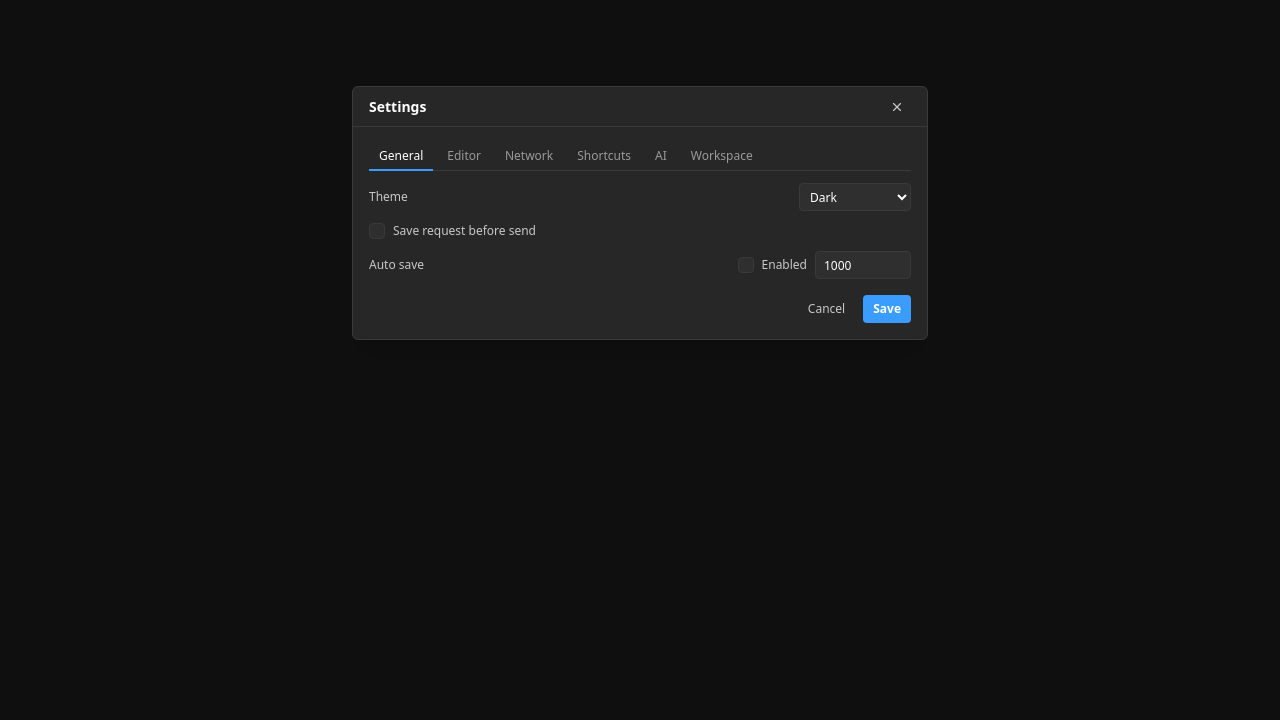
Test case: SettingsModal › tests the AI connection with the draft settings
Click the tab "AI": {"x": 661, "y": 157} [645,143,677,171]
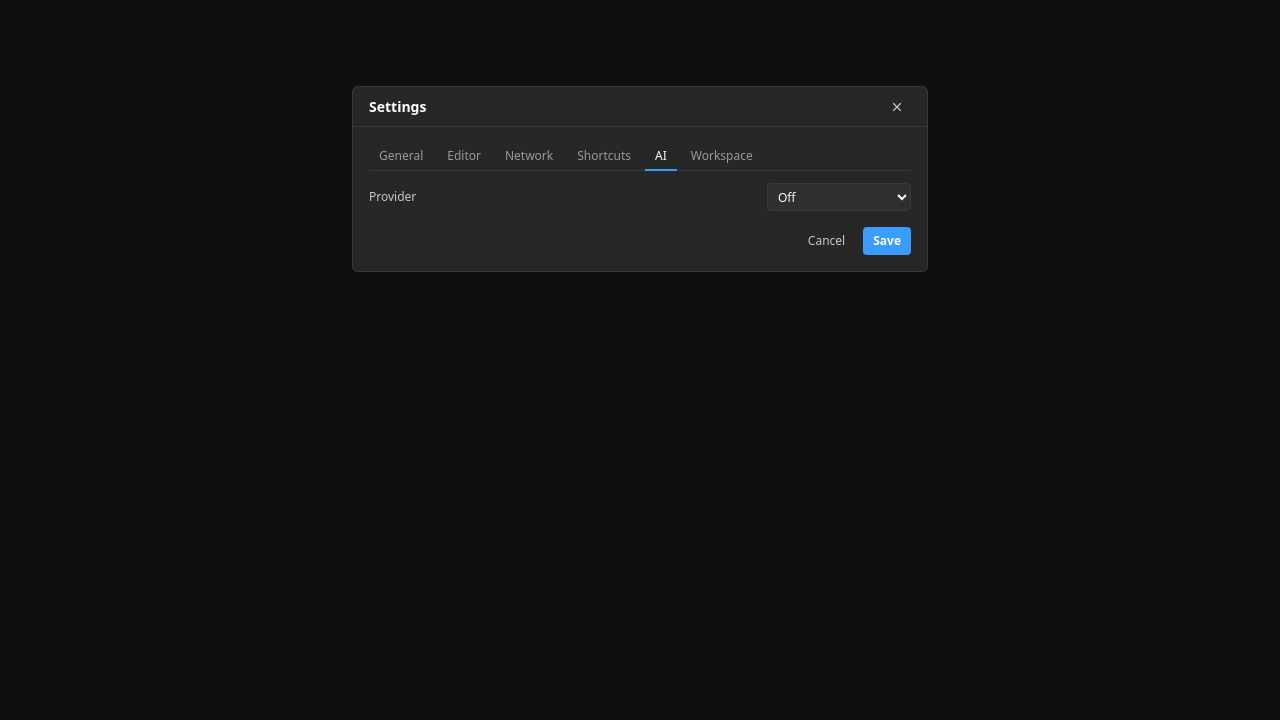
Select "Custom" in the dropdown named "AI provider": {"x": 839, "y": 197} [767,183,911,211]
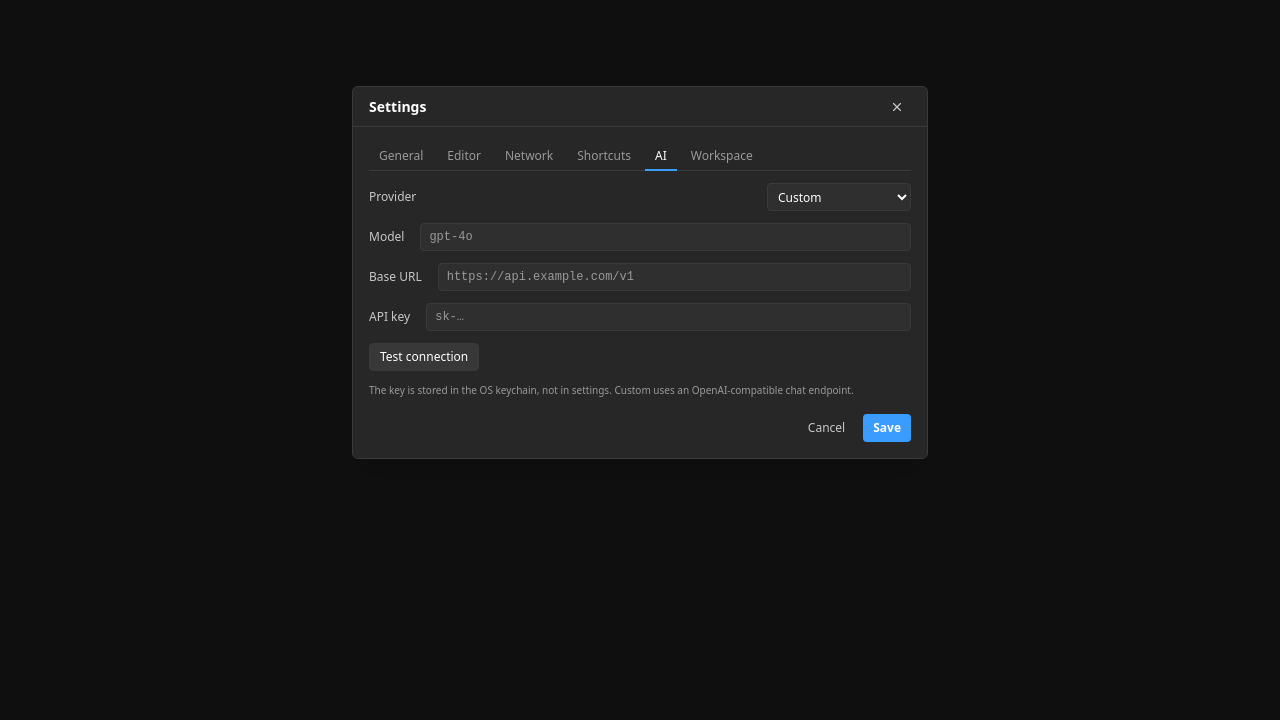
In the field named "AI model": {"x": 666, "y": 237} [420,223,911,251], type "llama3"
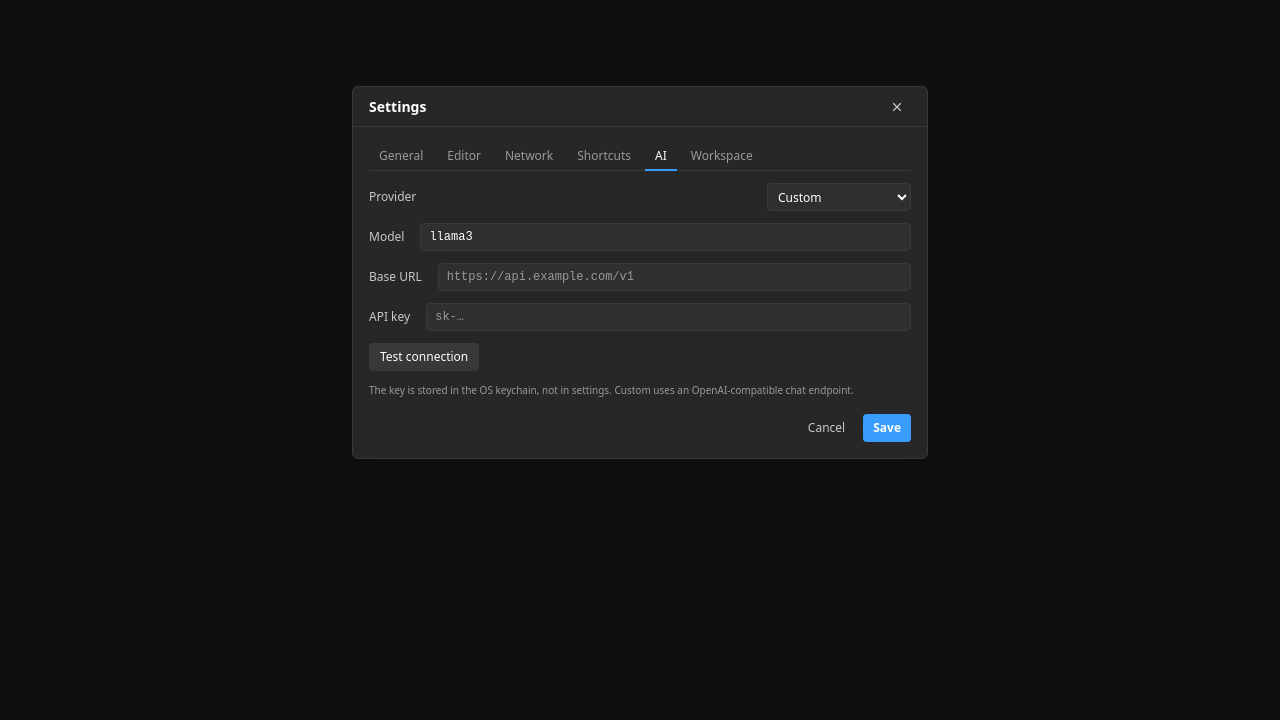
In the field named "AI base URL": {"x": 674, "y": 277} [438,263,911,291], type "http://127.0.0.1:11434/v1"
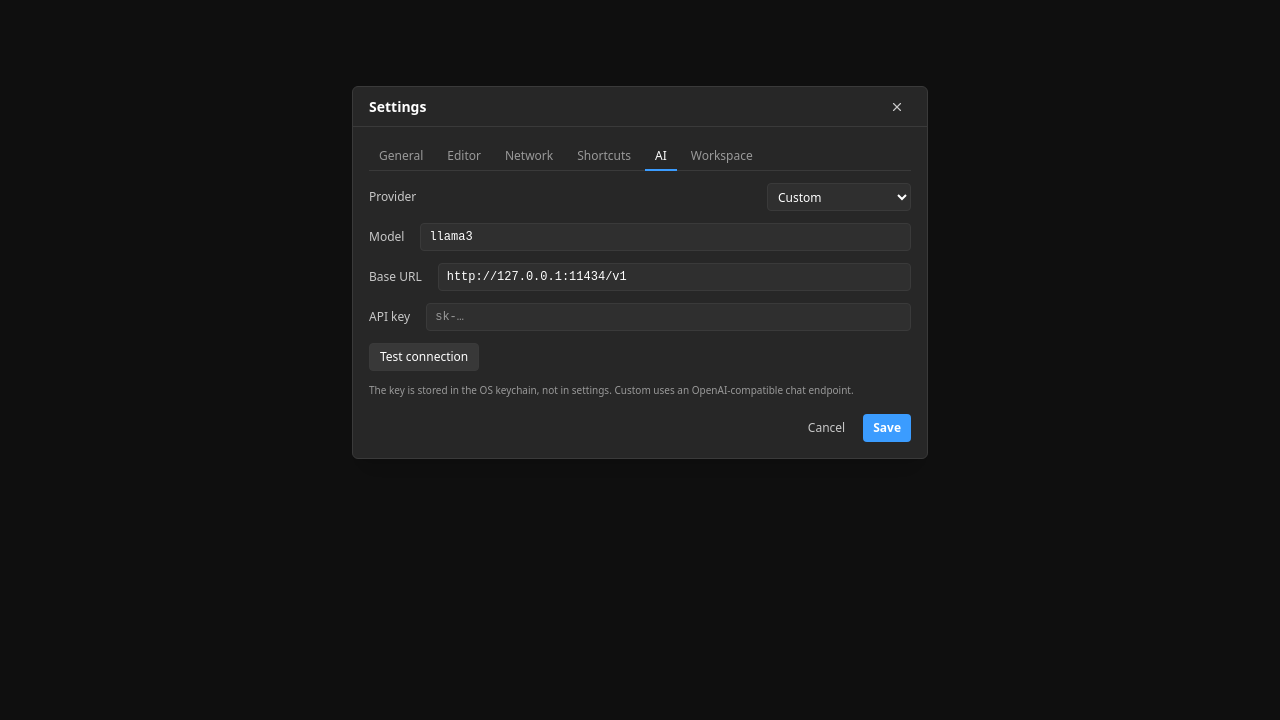
In the password field named "AI API key": {"x": 669, "y": 317} [426,303,911,331], type "sk-test"
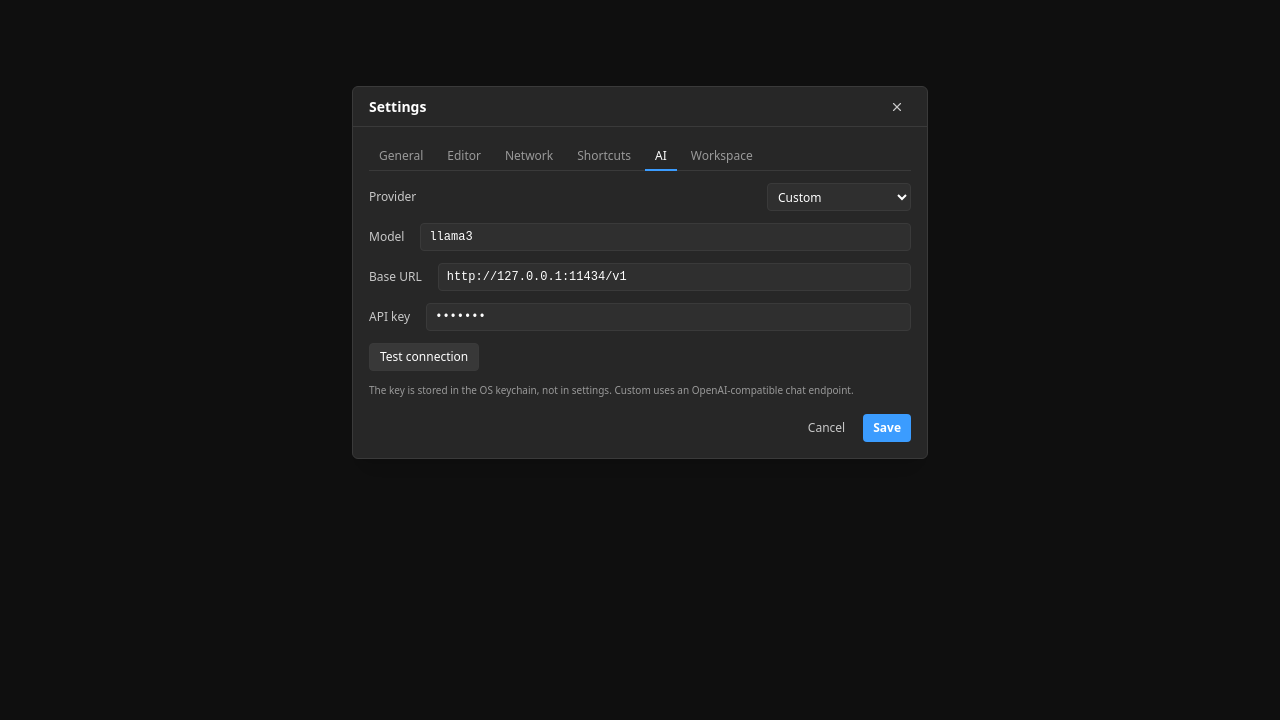
Click the button "Test connection": {"x": 424, "y": 357} [369,343,479,371]
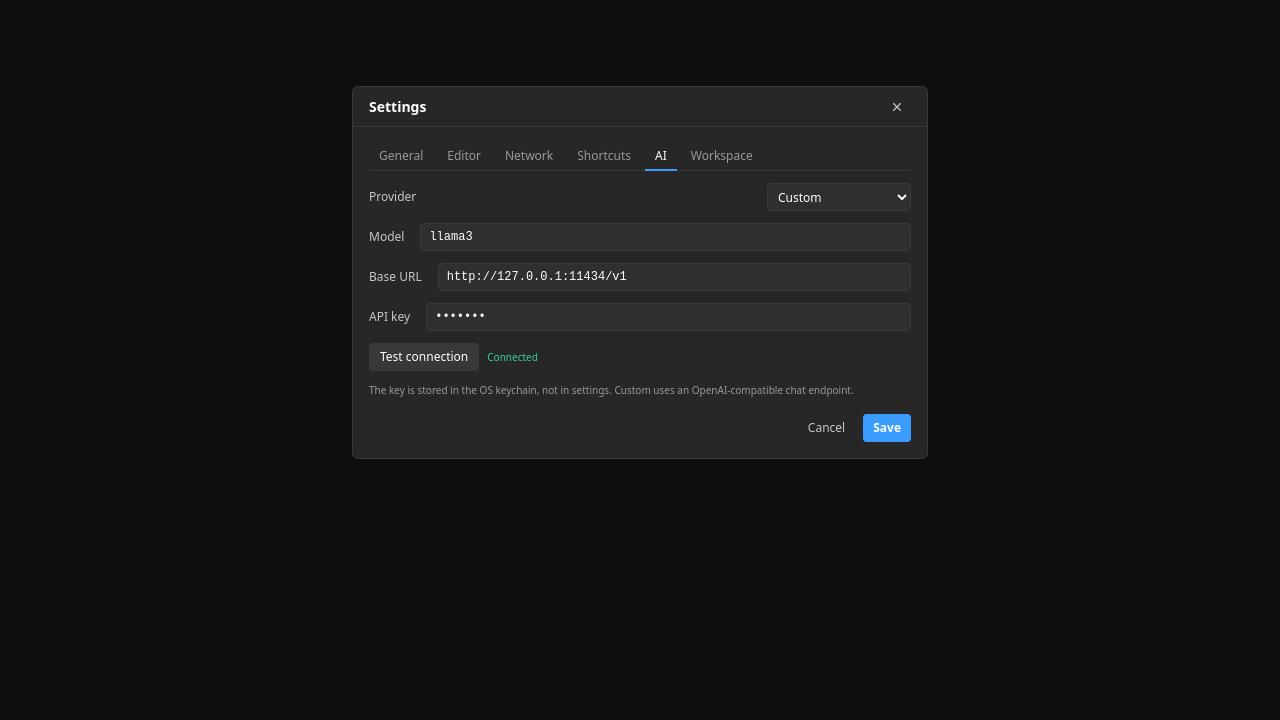
Expected: the text "Connected" is shown, [487,350,538,365]
